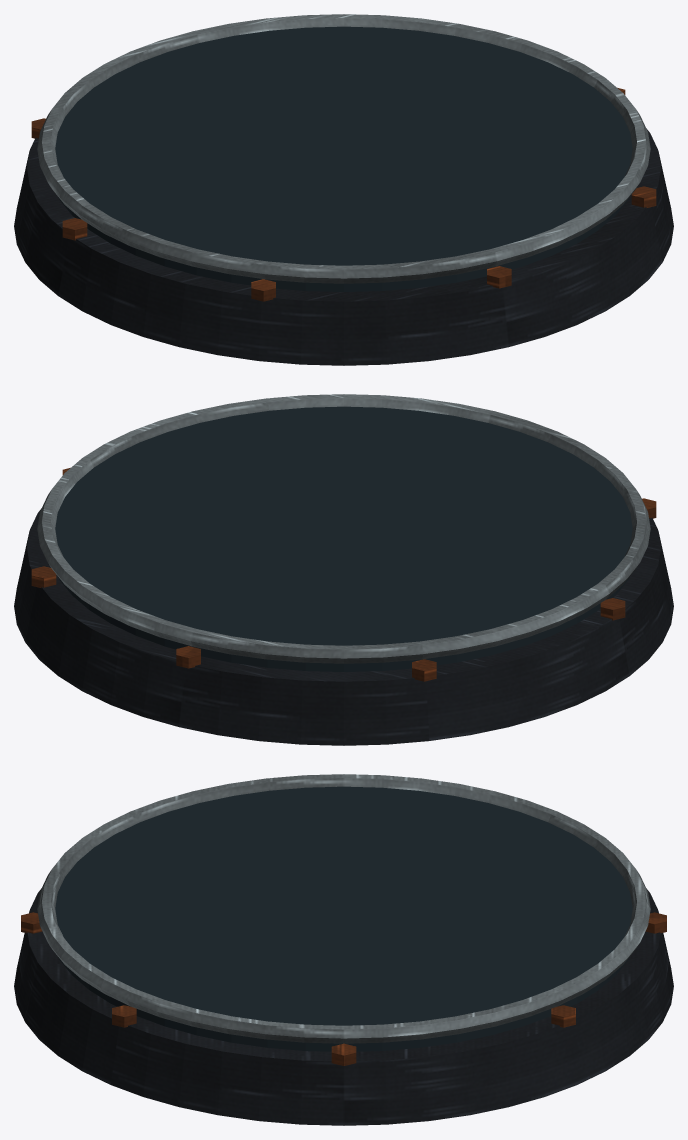
File: route_token.glb
3 renders of one model, top to bottom at view 1: azimuth 30°, elevation 25°; view 2: azimuth 150°, elevation 25°; view 3: azimuth 270°, elevation 25°, orthographic.
Parts seen in each view (by area): view 1: Route token / bevel and bolts; view 2: Route token / bevel and bolts; view 3: Route token / bevel and bolts.
Part boxes in pixels (bbox=[...]): Route token / bevel and bolts: bbox=[14, 14, 673, 365]; Route token / bevel and bolts: bbox=[14, 394, 673, 745]; Route token / bevel and bolts: bbox=[14, 774, 673, 1125].
Bounding box in the file's own units: 1.02 × 0.1441 × 1.02.
4 materials, 3 textured.
